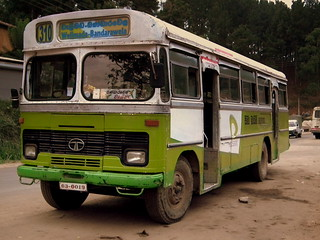bus: (16, 9, 288, 224)
